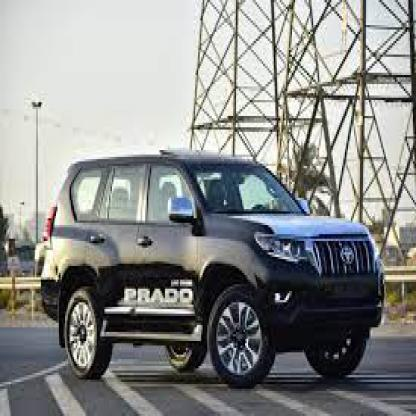jeep: (34, 143, 388, 380)
